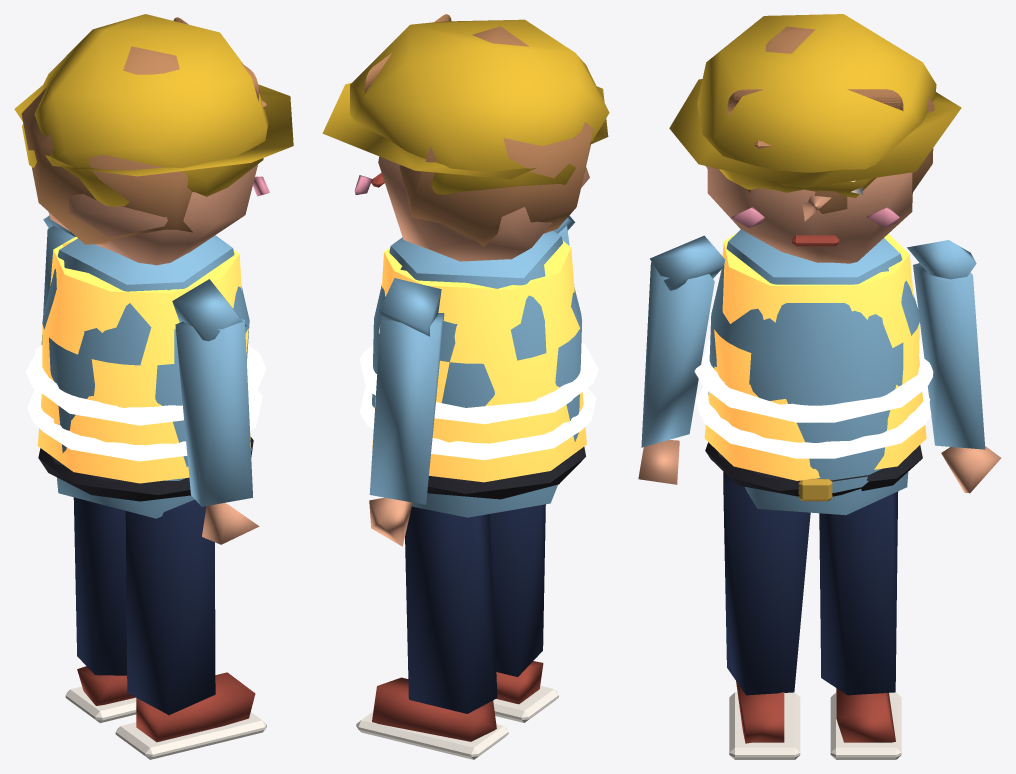
The model's file is ped_worker.glb.
The picture shows the model from 3 angles, left to right: view 1: azimuth 30°, elevation 25°; view 2: azimuth 150°, elevation 25°; view 3: azimuth 270°, elevation 25°; orthographic projection.
Visible parts, largest first — view 1: ped_worker; view 2: ped_worker; view 3: ped_worker.
Part boxes in pixels (x1,y1,x2,y2): ped_worker: (14, 14, 293, 759); ped_worker: (322, 14, 609, 759); ped_worker: (638, 14, 1001, 759).
Bounding box in the file's own units: 0.4315 × 1.13 × 0.5377.
Materials: 1 (1 with a texture image).
